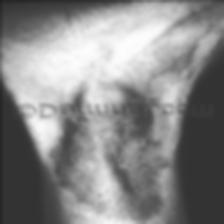Unclassified: (59, 118, 167, 210)
